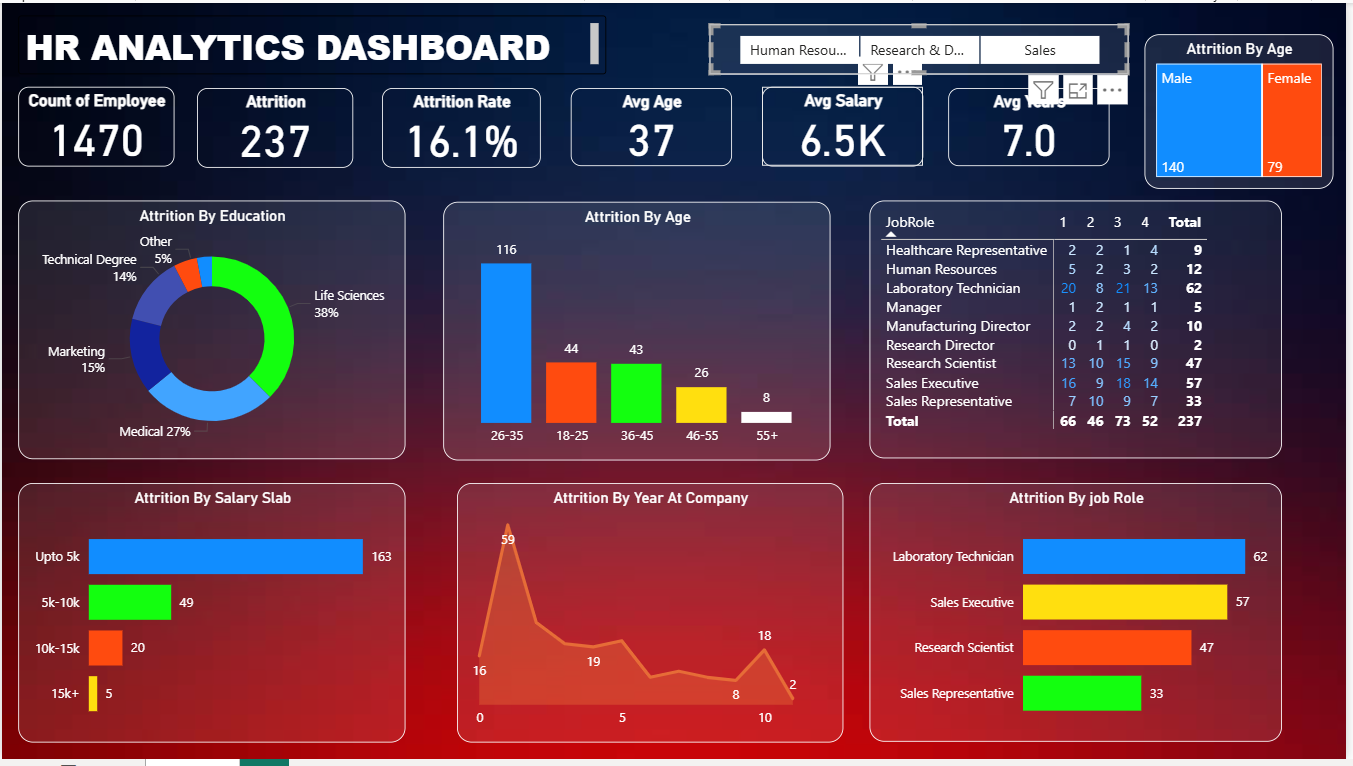

What the dashboard file says about the page in this screenshot:
{"tool":"powerbi","page":{"name":"Page 1","canvas":[1280,720],"ordinal":0},"visuals":[{"type":"card","title":"Attrition","fields":{"Values":["Sum(HR_Analytics.Atrritioncount)"]},"box":[186.1,80.5,148.9,75.6],"z":0},{"type":"card","title":"Attrition Rate","fields":{"Values":["HR_Analytics.AtrritionRate"]},"box":[361.4,80.5,151.3,75.6],"z":1000},{"type":"card","title":"Count of Employee","fields":{"Values":["CountNonNull(HR_Analytics.EmpID)"]},"box":[15.6,79.2,148.9,75.6],"z":2000},{"type":"card","title":"Avg Age","fields":{"Values":["Avg(HR_Analytics.Age)"]},"box":[541.5,80.5,153.7,74.4],"z":3000},{"type":"card","title":"Avg Salary","fields":{"Values":["Avg(HR_Analytics.MonthlyIncome)"]},"box":[724.1,79.2,153.7,75.6],"z":4000},{"type":"card","title":"Avg Years","fields":{"Values":["Avg(HR_Analytics.YearsAtCompany)"]},"box":[901.8,80.5,153.7,74.4],"z":5000},{"type":"donutChart","title":"Attrition By Education","fields":{"Category":["HR_Analytics.EducationField"],"Y":["Sum(HR_Analytics.Atrritioncount)"]},"box":[15.6,188.5,368.6,246.2],"z":6000},{"type":"columnChart","title":"Attrition By Age","fields":{"Category":["HR_Analytics.AgeGroup"],"Y":["Sum(HR_Analytics.Atrritioncount)"]},"box":[420.2,189.3,369,246.4],"z":7000},{"type":"pivotTable","fields":{"Rows":["HR_Analytics.JobRole"],"Columns":["HR_Analytics.JobSatisfaction"],"Values":["Sum(HR_Analytics.Atrritioncount)"]},"box":[826.2,188.1,392.9,245.2],"z":8000},{"type":"barChart","title":"Attrition By Salary Slab","fields":{"Category":["HR_Analytics.SalarySlab"],"Y":["Sum(HR_Analytics.Atrritioncount)"]},"box":[15.1,456.9,369.1,247],"z":9000},{"type":"barChart","title":"Attrition By job Role","fields":{"Category":["HR_Analytics.JobRole"],"Y":["Sum(HR_Analytics.Atrritioncount)"]},"box":[826.2,457.1,392.9,246.4],"z":10000},{"type":"areaChart","title":"Attrition By Year At Company","fields":{"Category":["HR_Analytics.YearsAtCompany"],"Y":["Sum(HR_Analytics.Atrritioncount)"]},"box":[433.6,456.9,367.8,247],"z":11000},{"type":"treemap","title":"Attrition By Age","fields":{"Group":["HR_Analytics.Gender"],"Values":["Sum(HR_Analytics.Atrritioncount)"]},"box":[1088.2,30.2,179.8,146.8],"z":12000},{"type":"slicer","fields":{"Values":["HR_Analytics.Department"]},"box":[673.8,20.2,398.8,47.6],"z":13000},{"type":"textbox","box":[15.1,12.3,559.9,56.3],"z":14000}]}

Visuals, with their boxes in screenshot pixels (x1, y1, x2, y2), scaled from the page's 1280x720 canvas onto the 1353x766 screenshot:
"Attrition" card: [197, 86, 354, 166]
"Attrition Rate" card: [382, 86, 542, 166]
"Count of Employee" card: [16, 84, 174, 165]
"Avg Age" card: [572, 86, 735, 165]
"Avg Salary" card: [765, 84, 928, 165]
"Avg Years" card: [953, 86, 1116, 165]
"Attrition By Education" donutChart: [16, 201, 406, 462]
"Attrition By Age" columnChart: [444, 201, 834, 464]
pivotTable - HR_Analytics.JobRole x HR_Analytics.JobSatisfaction: [873, 200, 1289, 461]
"Attrition By Salary Slab" barChart: [16, 486, 406, 749]
"Attrition By job Role" barChart: [873, 486, 1289, 748]
"Attrition By Year At Company" areaChart: [458, 486, 847, 749]
"Attrition By Age" treemap: [1150, 32, 1340, 188]
slicer - HR_Analytics.Department: [712, 21, 1134, 72]
textbox: [16, 13, 608, 73]
